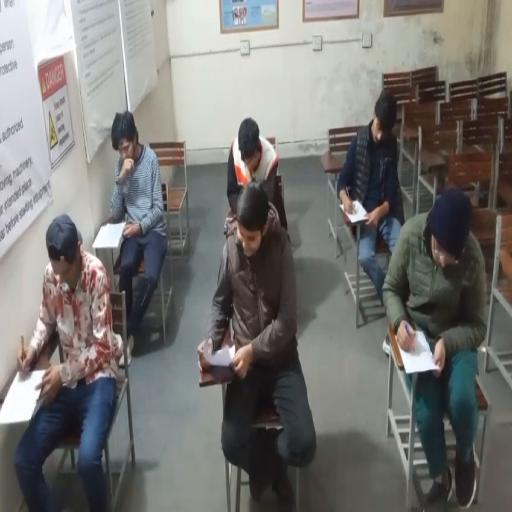paper: (0, 371, 45, 423), (396, 327, 440, 375), (92, 222, 127, 246), (207, 342, 236, 368), (341, 198, 369, 223)
